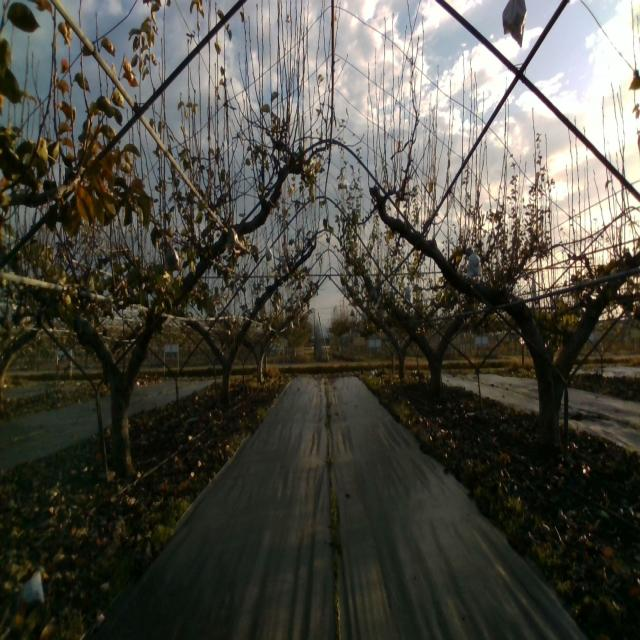pearbags: (502, 0, 527, 48), (466, 253, 482, 280), (164, 243, 180, 270), (221, 225, 239, 247)
